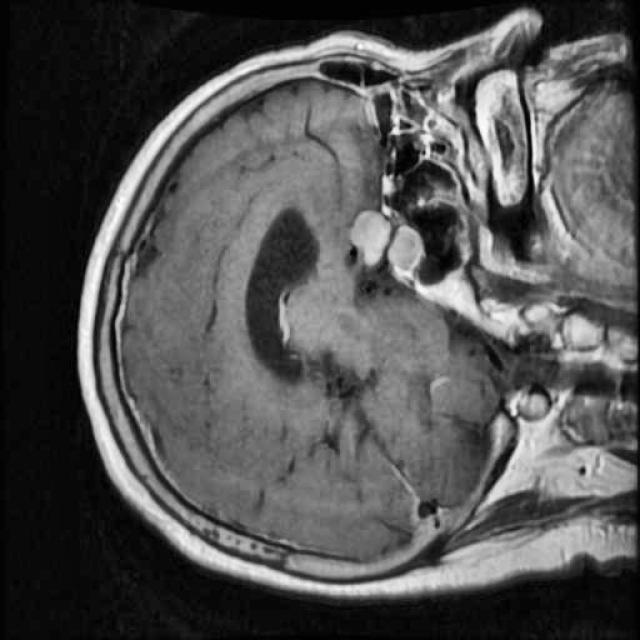Tumor: (339, 200, 439, 299)
